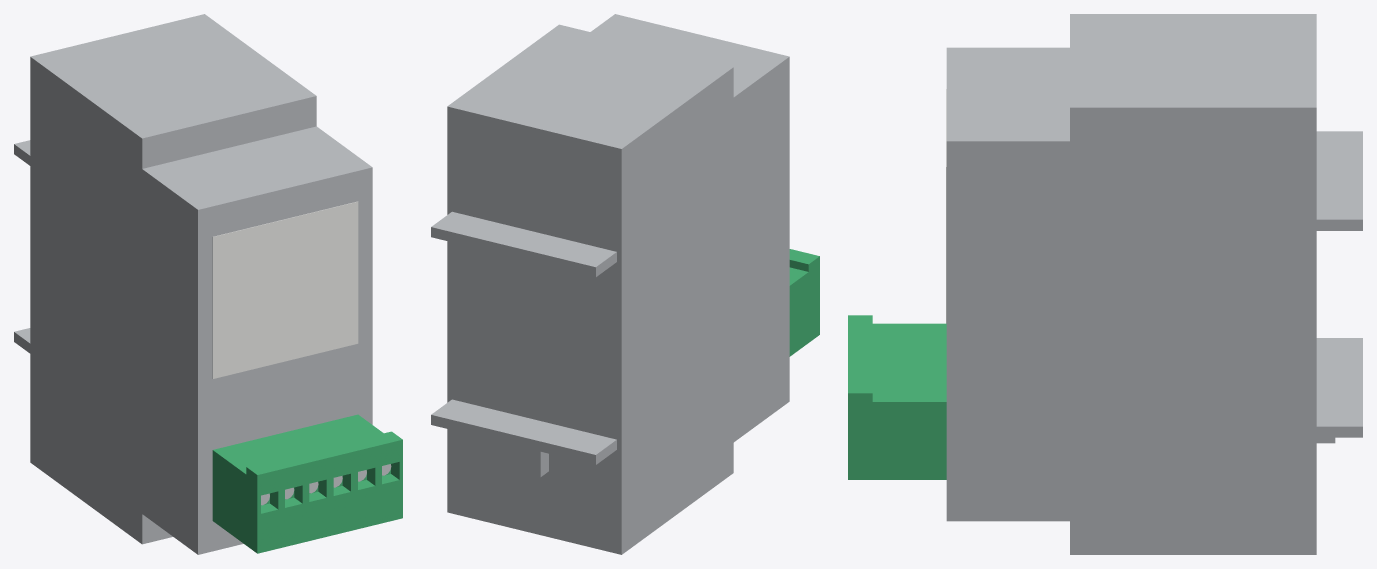
The model's file is term-dist-12a-1p.glb.
3 views of the same model, side by side, from view 1: azimuth 30°, elevation 25°; view 2: azimuth 150°, elevation 25°; view 3: azimuth 270°, elevation 25° (orthographic). The views are drawn at different scales.
Visible parts, largest first — view 1: body; view 2: body; view 3: body.
Part boxes in pixels (box(x1,y1,x2,y2)): body: box(14, 14, 402, 554); body: box(431, 14, 819, 554); body: box(848, 14, 1362, 554).
Size of what is drawn, in the model's own units: 0.036 by 0.08 by 0.0835.
